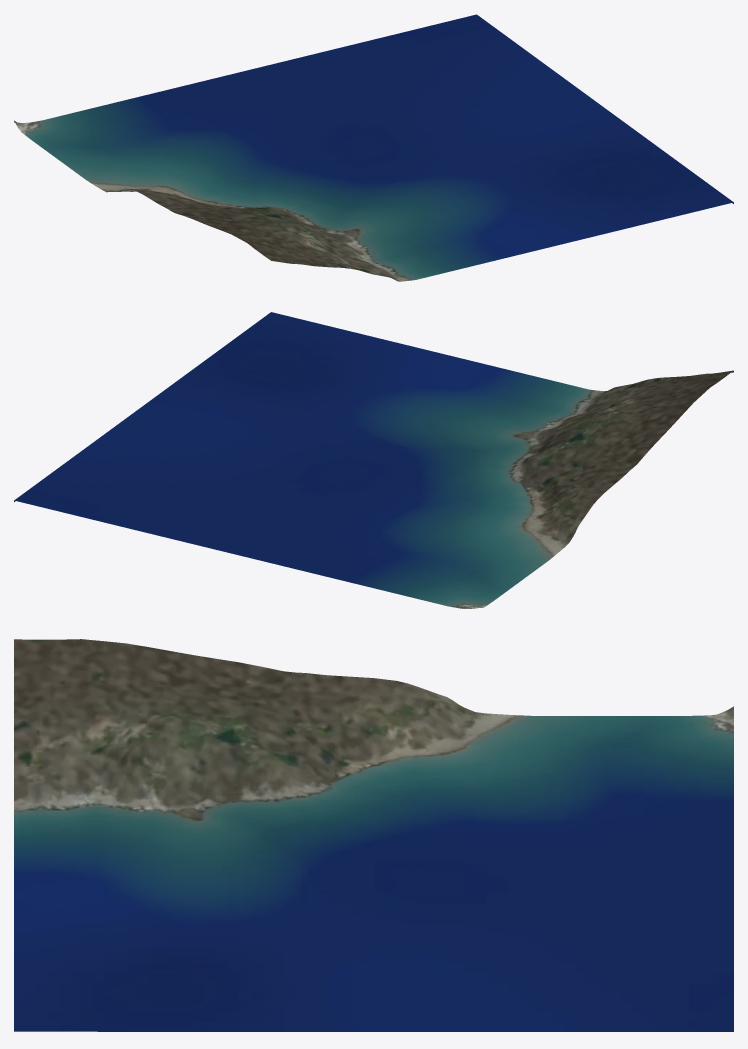
3 views of the same model, one above another, from view 1: azimuth 30°, elevation 25°; view 2: azimuth 150°, elevation 25°; view 3: azimuth 270°, elevation 25° (orthographic). The views are drawn at different scales.
Bounding box in the file's own units: 250 × 29.36 × 241.
Materials: 1 (1 with a texture image).
